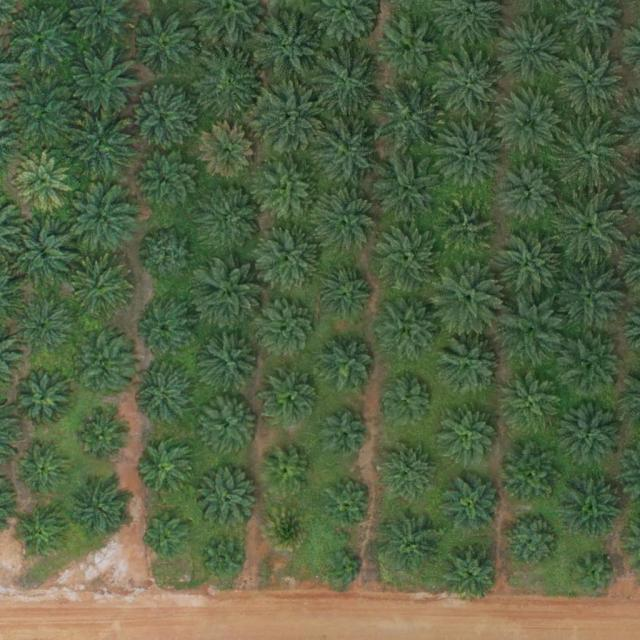Healthy: (7, 3, 78, 74), (11, 82, 82, 153), (496, 89, 567, 160), (494, 227, 565, 298), (69, 48, 139, 119), (196, 49, 266, 120), (310, 45, 380, 116), (438, 52, 508, 123), (499, 15, 569, 86), (556, 51, 626, 122), (555, 194, 626, 264), (555, 259, 625, 330), (498, 294, 568, 365), (434, 262, 504, 333), (371, 224, 441, 295), (312, 117, 383, 187), (10, 218, 80, 289), (67, 109, 138, 179), (67, 187, 137, 258), (253, 15, 323, 85), (255, 84, 325, 154), (373, 83, 443, 153), (553, 119, 623, 189), (434, 117, 504, 187), (374, 154, 444, 224), (197, 264, 267, 334), (132, 14, 195, 77), (380, 16, 443, 79), (564, 335, 627, 398), (560, 403, 623, 466), (502, 371, 565, 434), (257, 227, 320, 290), (137, 149, 200, 212), (132, 86, 195, 148), (561, 479, 623, 542), (502, 444, 564, 507), (439, 334, 501, 397), (438, 407, 500, 470), (440, 542, 502, 605), (378, 299, 440, 362), (314, 188, 376, 251), (258, 158, 320, 221), (201, 186, 263, 249), (197, 469, 260, 531), (72, 479, 134, 542), (381, 511, 443, 573), (256, 297, 318, 359), (71, 259, 133, 321), (74, 341, 136, 403), (200, 395, 262, 457), (441, 200, 496, 256), (506, 515, 561, 570), (320, 340, 375, 395), (503, 165, 558, 220), (264, 372, 319, 427), (14, 299, 69, 354), (16, 372, 71, 427), (142, 229, 197, 284), (137, 369, 192, 424), (204, 334, 259, 389), (79, 410, 134, 465), (18, 442, 73, 497), (16, 505, 71, 560), (446, 478, 500, 533), (380, 372, 434, 427), (381, 442, 435, 497), (317, 266, 371, 321), (143, 303, 197, 358), (141, 443, 195, 498), (325, 480, 372, 527)
Small: (201, 536, 248, 584), (264, 450, 311, 497), (321, 412, 368, 459), (572, 552, 619, 599), (145, 511, 192, 558), (326, 550, 365, 590)
Yellow: (200, 124, 255, 179), (17, 153, 71, 208), (265, 505, 312, 553)
